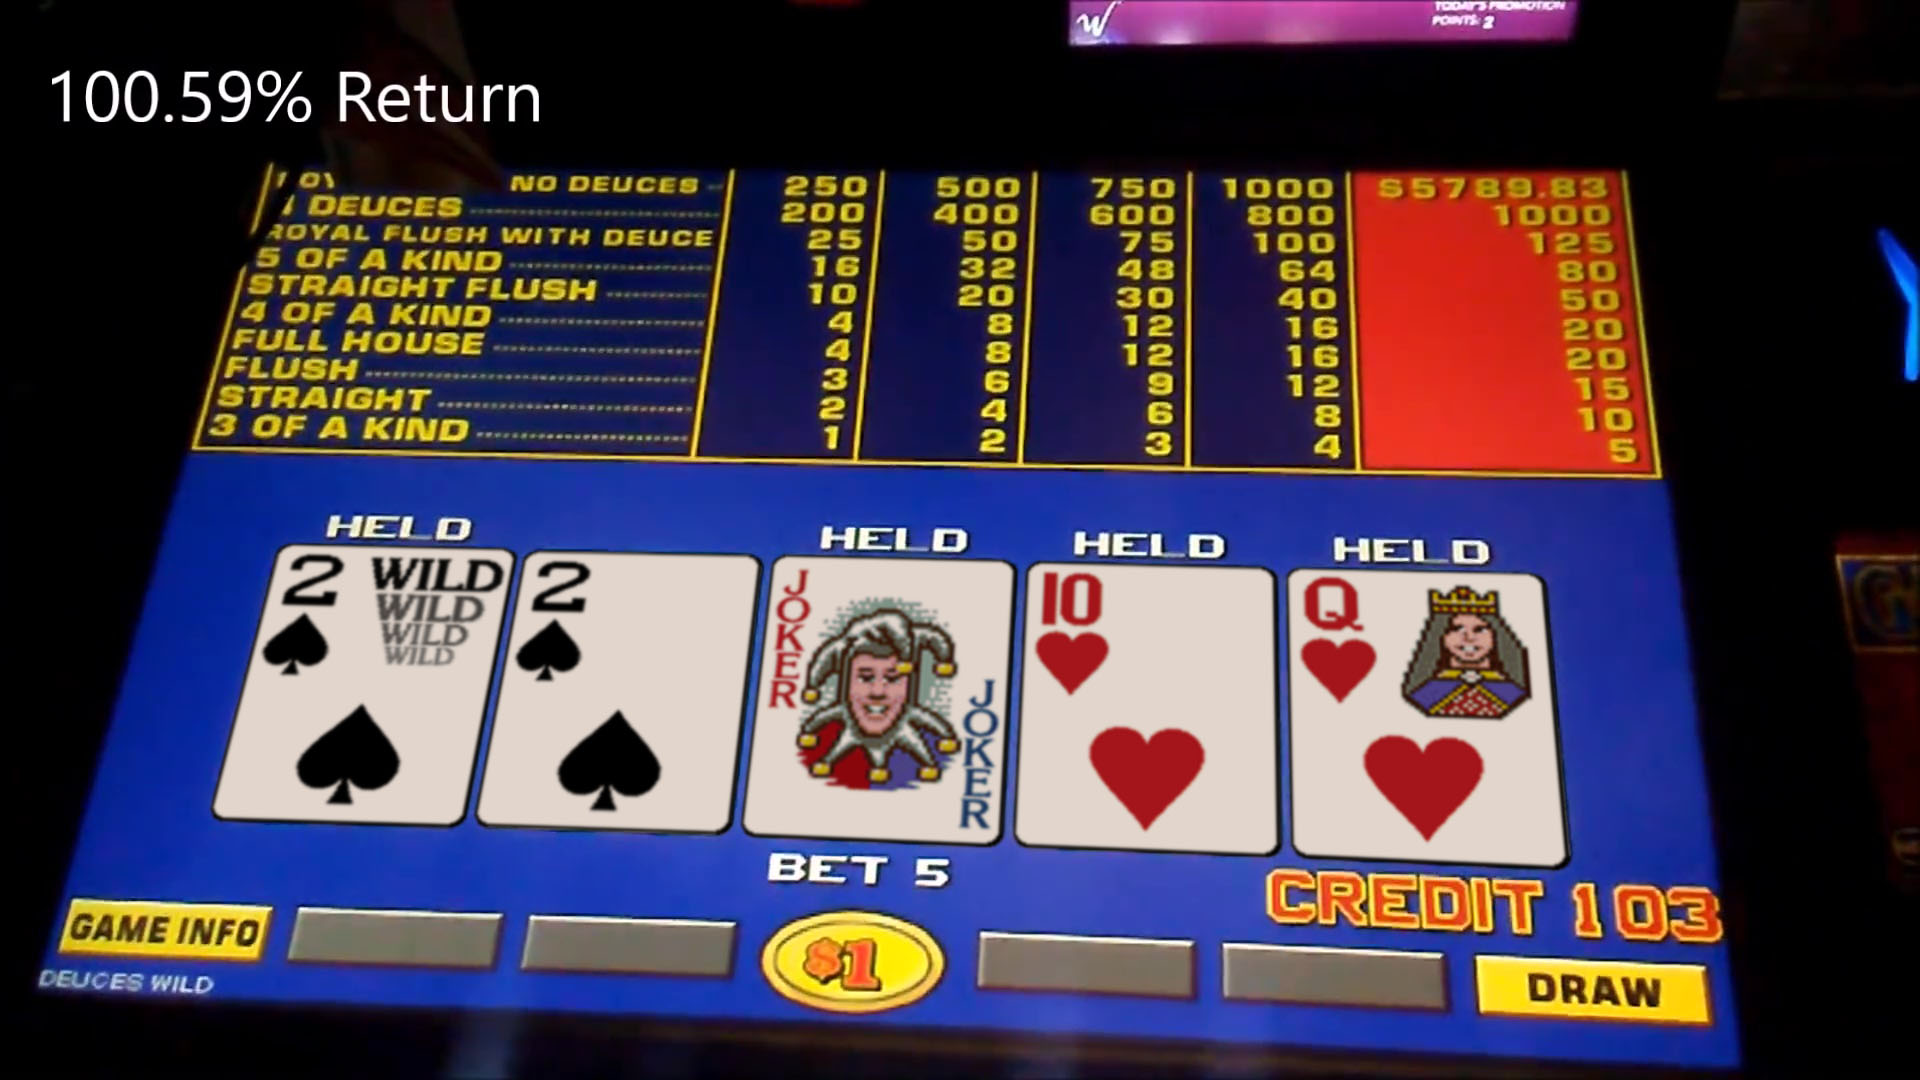HQ: (1294, 575, 1540, 707)
HT: (1027, 566, 1270, 704)
S2: (520, 553, 745, 688)
S2W: (265, 549, 491, 684)
joker: (771, 558, 1007, 696)
